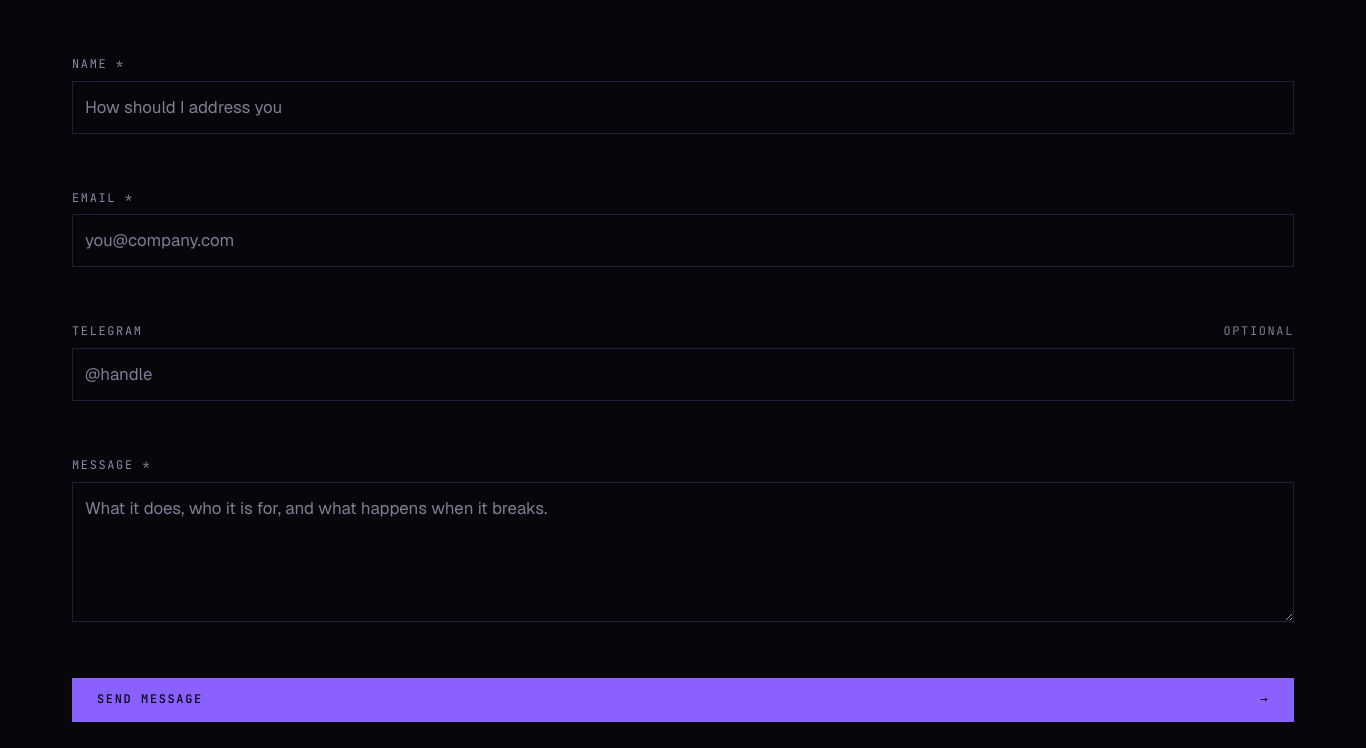
it: ContactForm › maps server validation errors onto the matching fields
In the field labelled "Name *": (683, 107) [72,81,1294,134], type "Maxim"
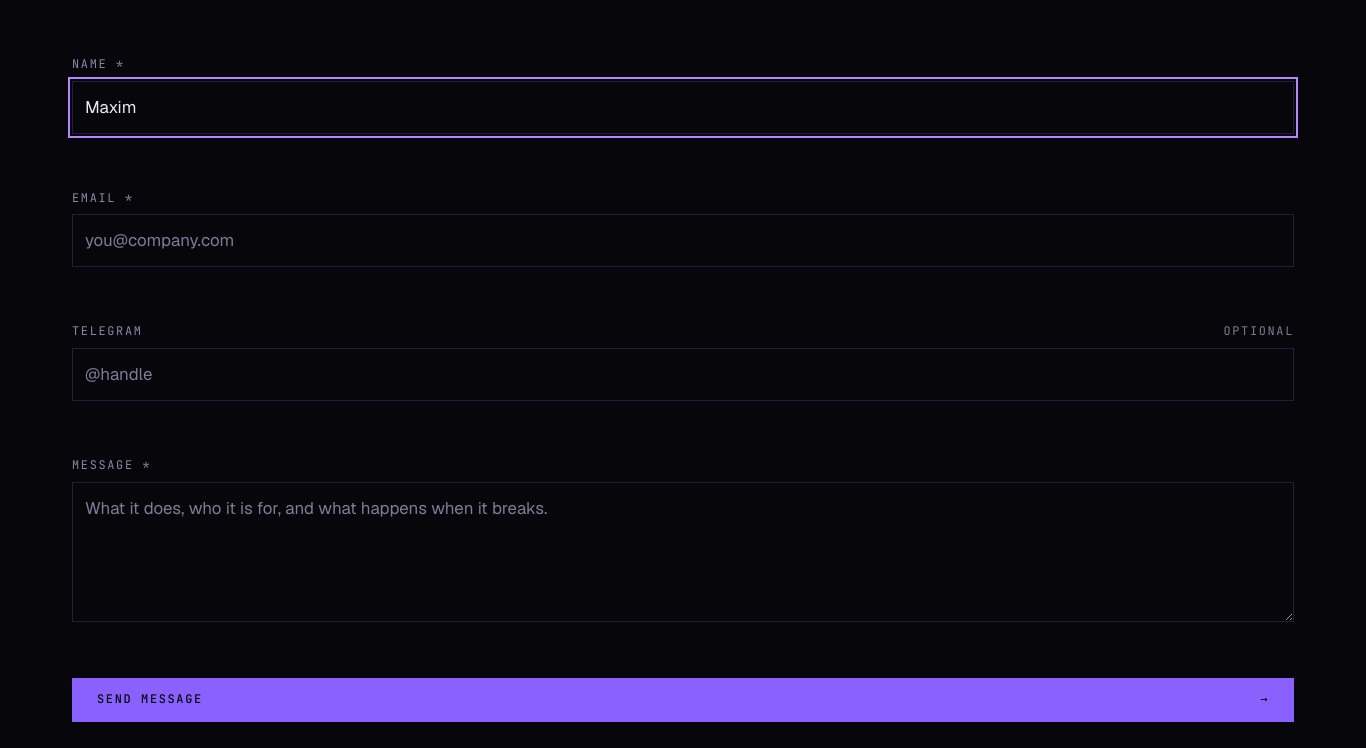
In the field labelled "Email *": (683, 241) [72,214,1294,267], type "someone@example.com"
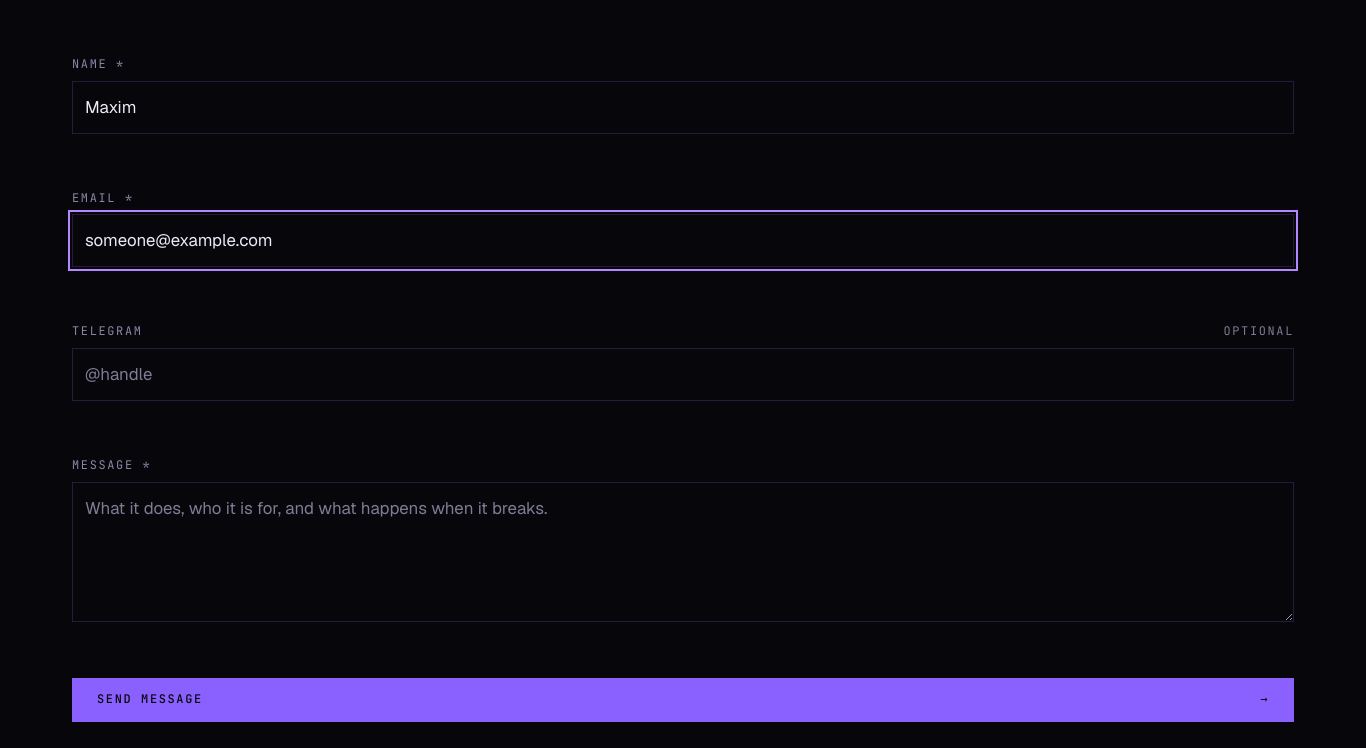
In the text box labelled "Message *": (683, 552) [72,482,1294,622], type "A message that is comfortably past the ten character floor."
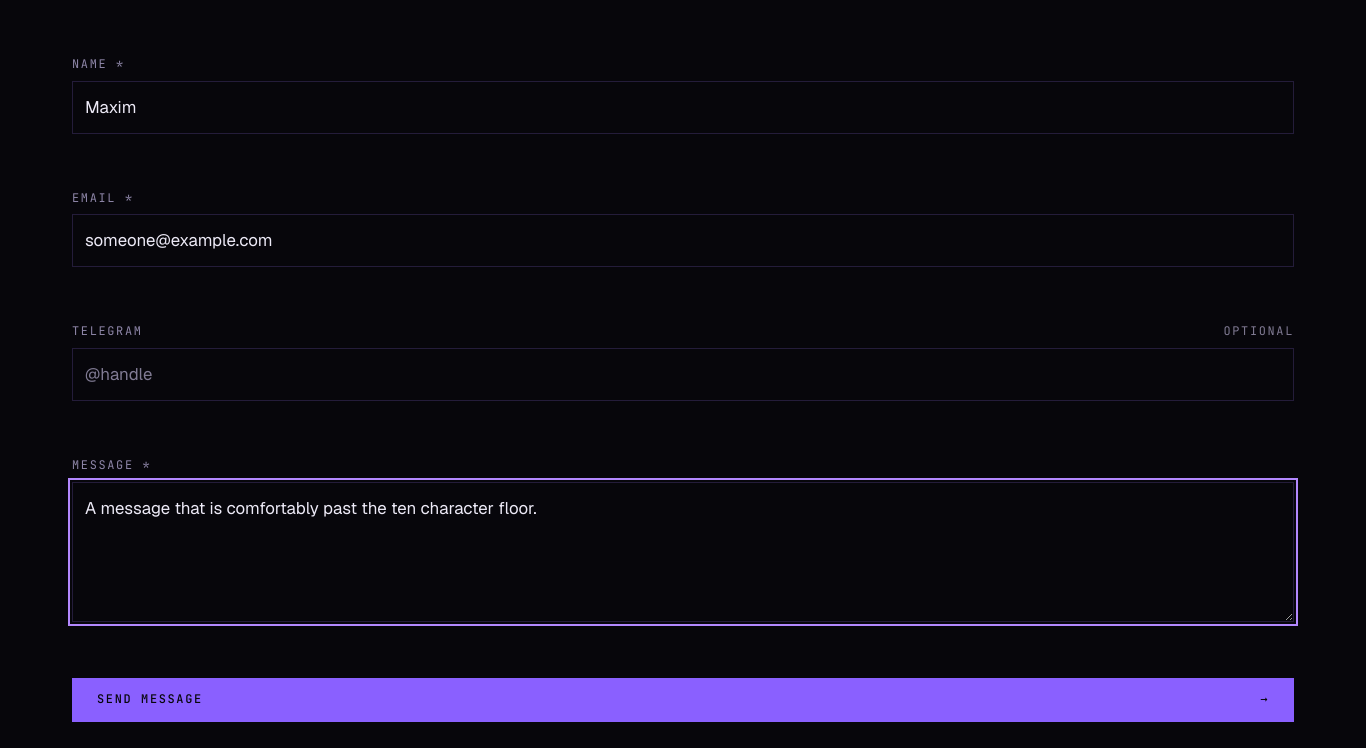
Click the button "Send message →": click(150, 699) [72,678,1294,722]
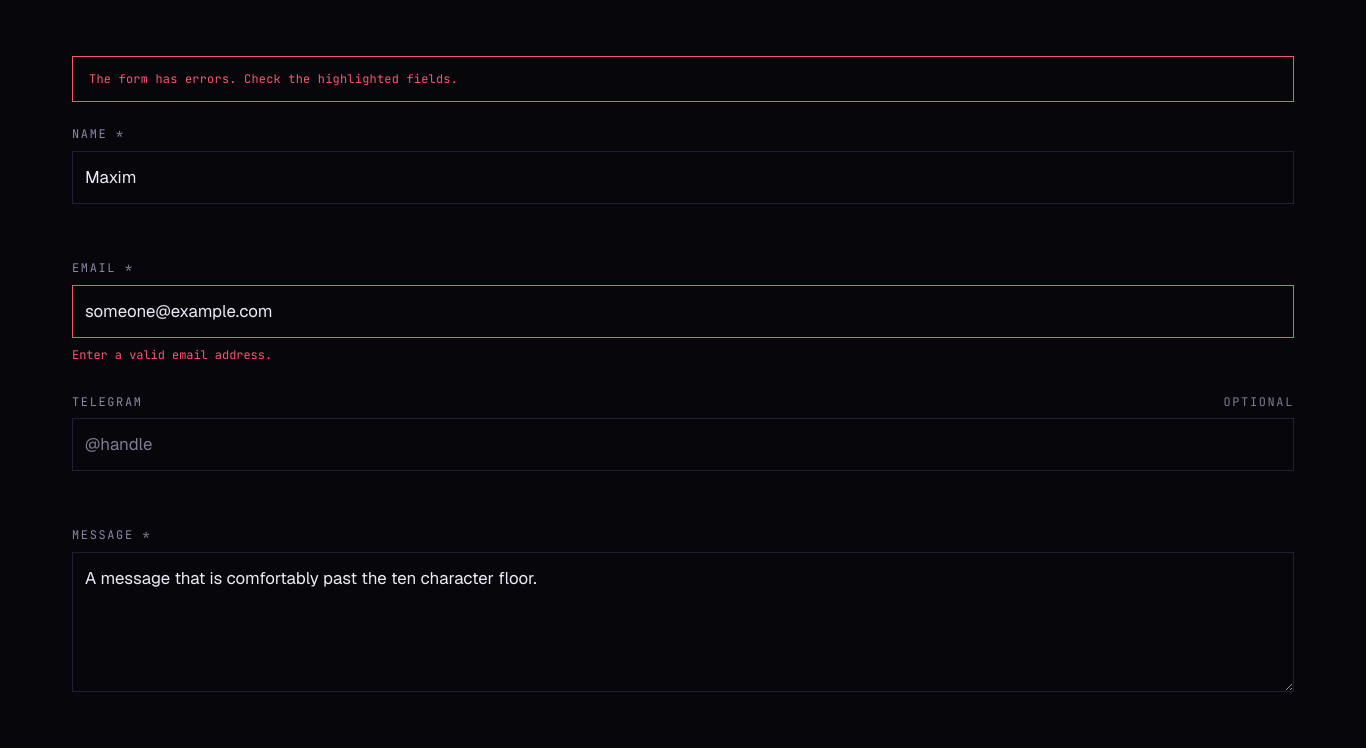
expect the text "Enter a valid email address." is shown: met, box [72,346,272,362]
